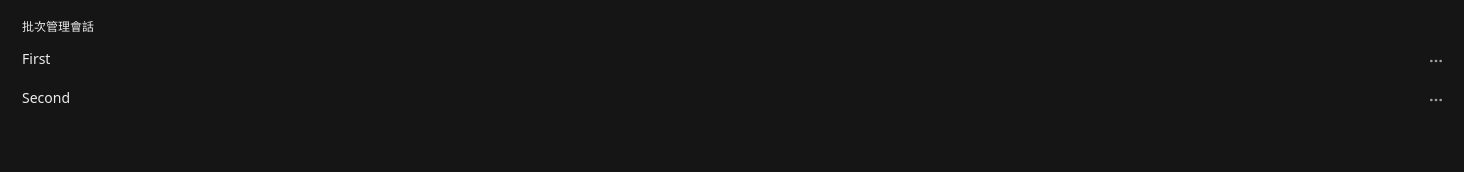
Scenario: sidebar session actions › opens the selected row in session management for confirmed batch and permanent controls
Click the button named "更多會話操作 First": (1435, 61) [1422,48,1448,74]
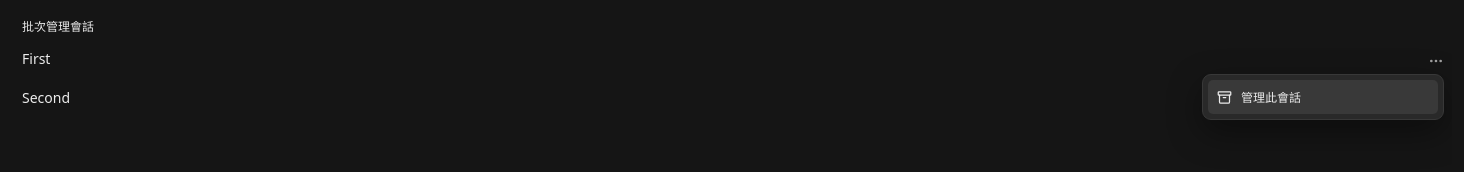
Click the menu item "管理此會話": (1323, 97) [1208,80,1438,114]
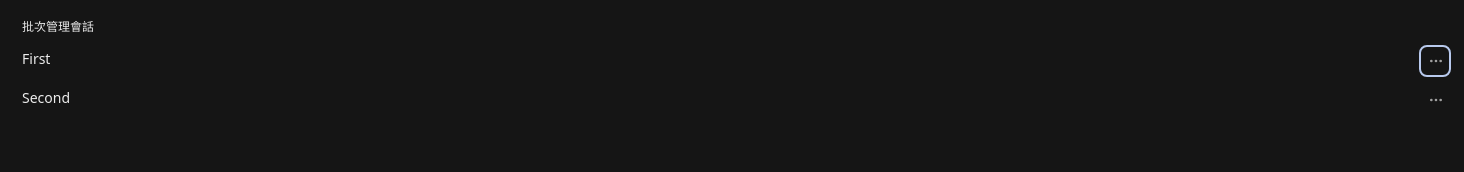
Expected: the menu is gone
